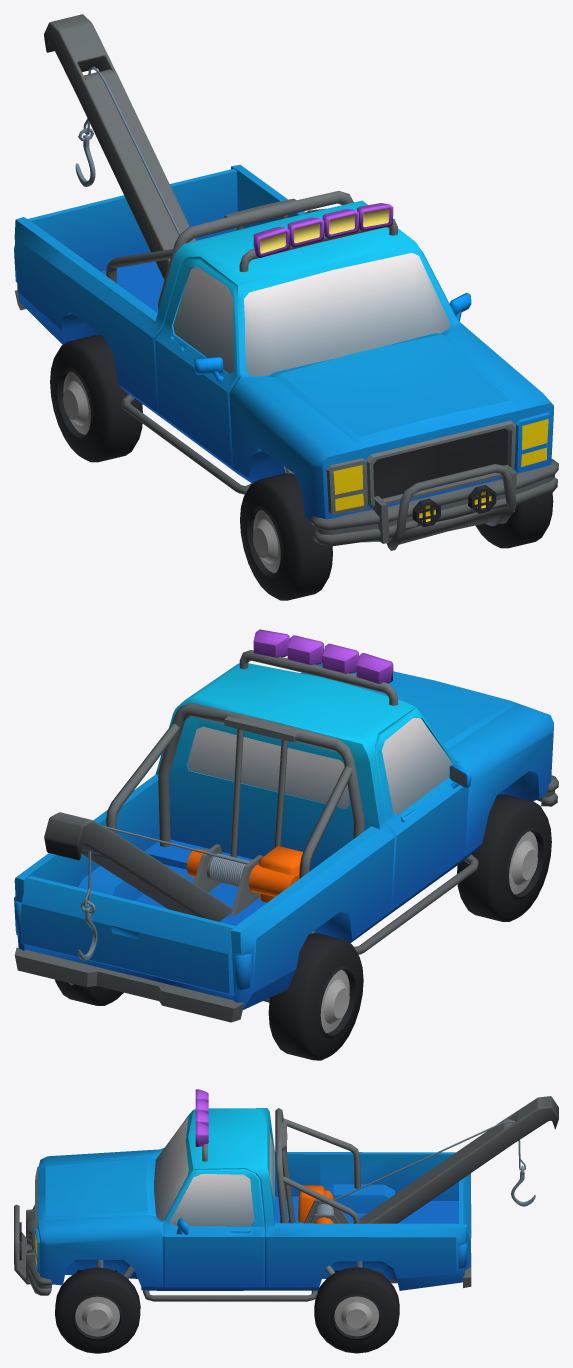
The model's file is RescueCar.fbx.
The picture shows the model from 3 angles, top to bottom: view 1: azimuth 30°, elevation 25°; view 2: azimuth 150°, elevation 25°; view 3: azimuth 270°, elevation 25°; orthographic projection. The views are drawn at different scales.
Parts seen in each view (by area): view 1: RescueCar, RescueCarArm, RescueCarRope; view 2: RescueCar, RescueCarArm, RescueCarRope; view 3: RescueCar, RescueCarArm, RescueCarRope.
Boxes of the visible parts, bbox=[...] form: RescueCar: bbox=[14, 164, 558, 600]; RescueCarArm: bbox=[44, 14, 196, 279]; RescueCarRope: bbox=[75, 66, 180, 234]; RescueCar: bbox=[14, 629, 558, 1060]; RescueCarArm: bbox=[44, 812, 232, 921]; RescueCarRope: bbox=[77, 826, 248, 960]; RescueCar: bbox=[14, 1089, 471, 1353]; RescueCarArm: bbox=[353, 1096, 558, 1223]; RescueCarRope: bbox=[325, 1120, 535, 1206].
Bounding box in the file's own units: 291 × 311 × 727.
